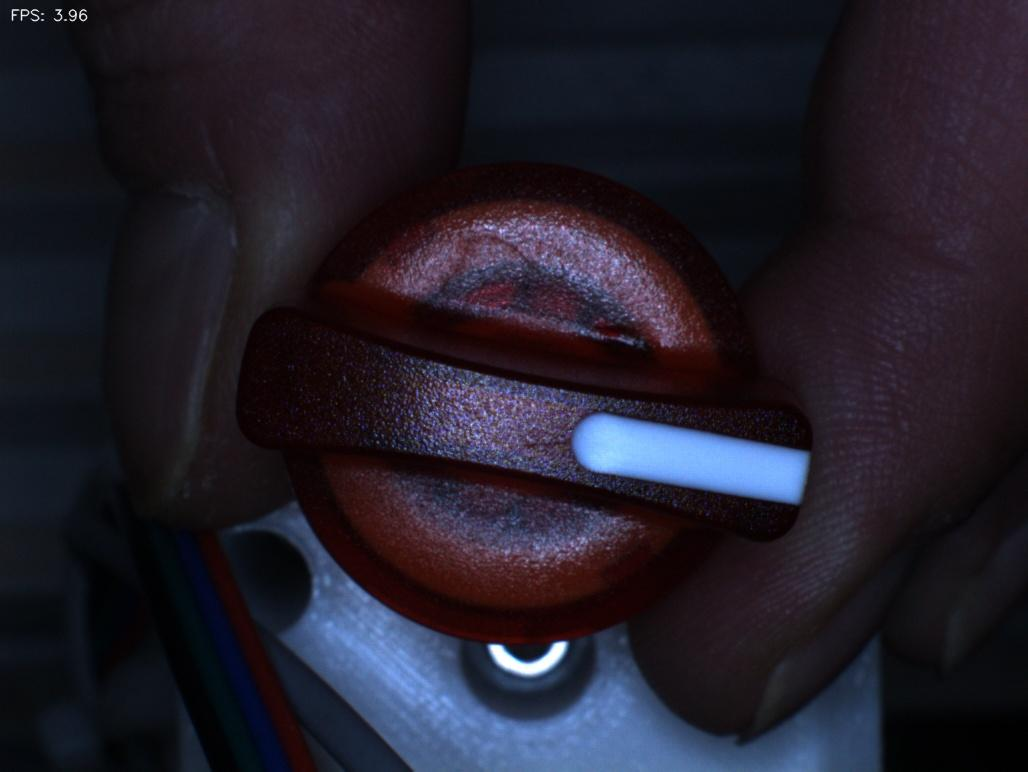Choc: (556, 289, 677, 377)
